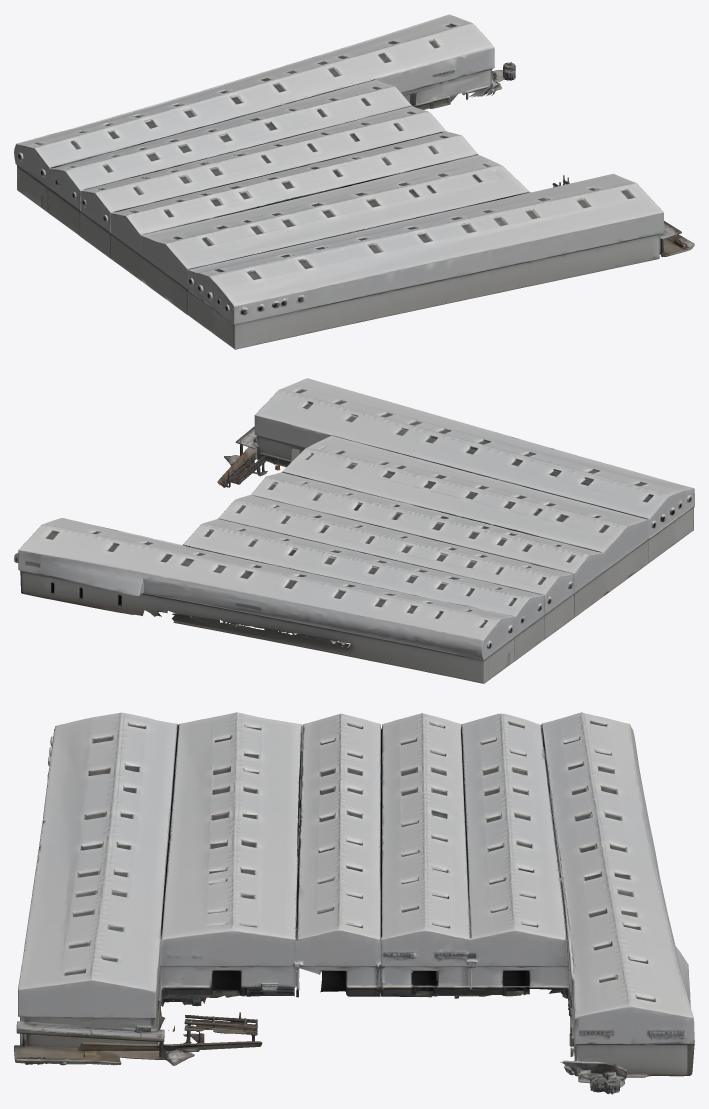
Rendered from hangar-ambassadeur.glb.
The picture shows the model from 3 angles, top to bottom: view 1: azimuth 30°, elevation 25°; view 2: azimuth 150°, elevation 25°; view 3: azimuth 270°, elevation 25°; orthographic projection. The views are drawn at different scales.
Visible parts, largest first — view 1: tripo_node_b02841cc-da75-4885-9008-b88894475de0; view 2: tripo_node_b02841cc-da75-4885-9008-b88894475de0; view 3: tripo_node_b02841cc-da75-4885-9008-b88894475de0.
Boxes of the visible parts, bbox=[...] form: tripo_node_b02841cc-da75-4885-9008-b88894475de0: bbox=[14, 14, 694, 349]; tripo_node_b02841cc-da75-4885-9008-b88894475de0: bbox=[14, 378, 694, 683]; tripo_node_b02841cc-da75-4885-9008-b88894475de0: bbox=[14, 712, 694, 1094].
Size of the model in its own units: 140 by 15 by 126.
Materials: 1 (1 with a texture image).
